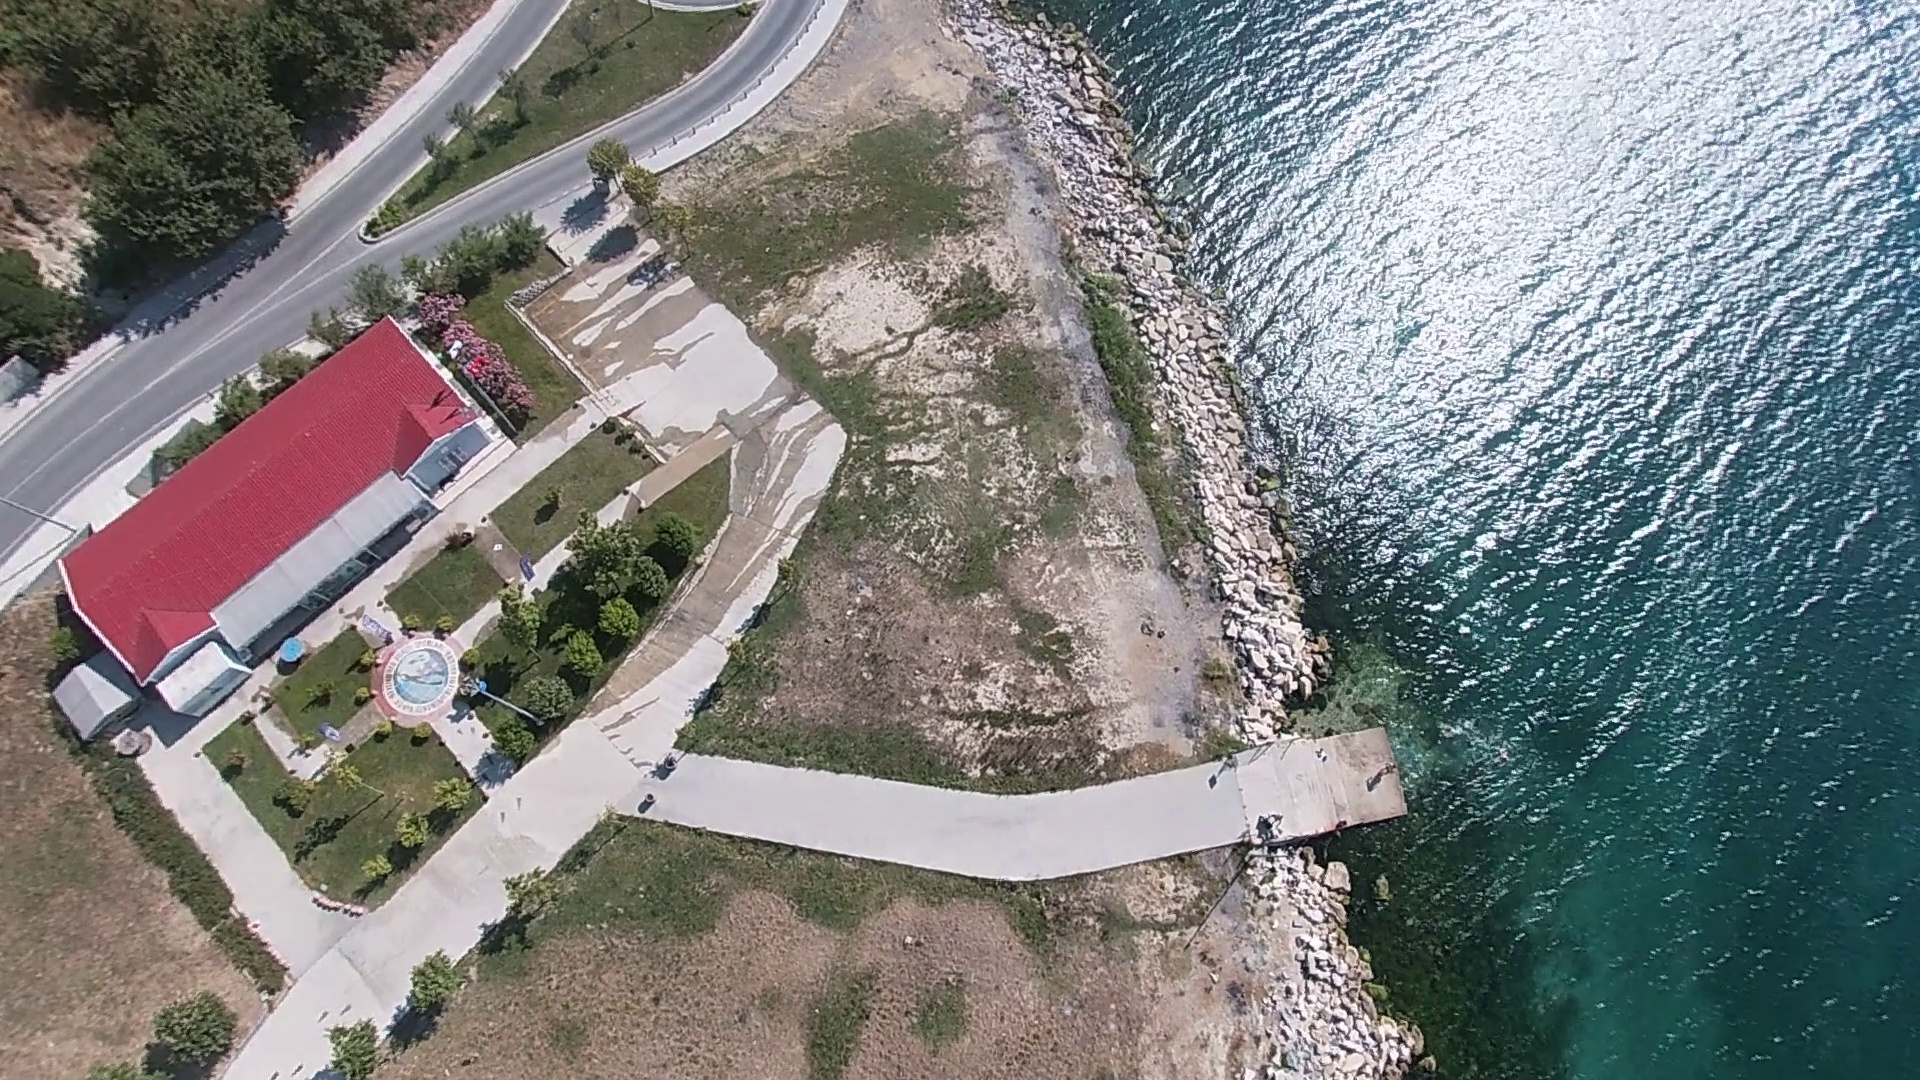insan: (1364, 747, 1404, 786)
